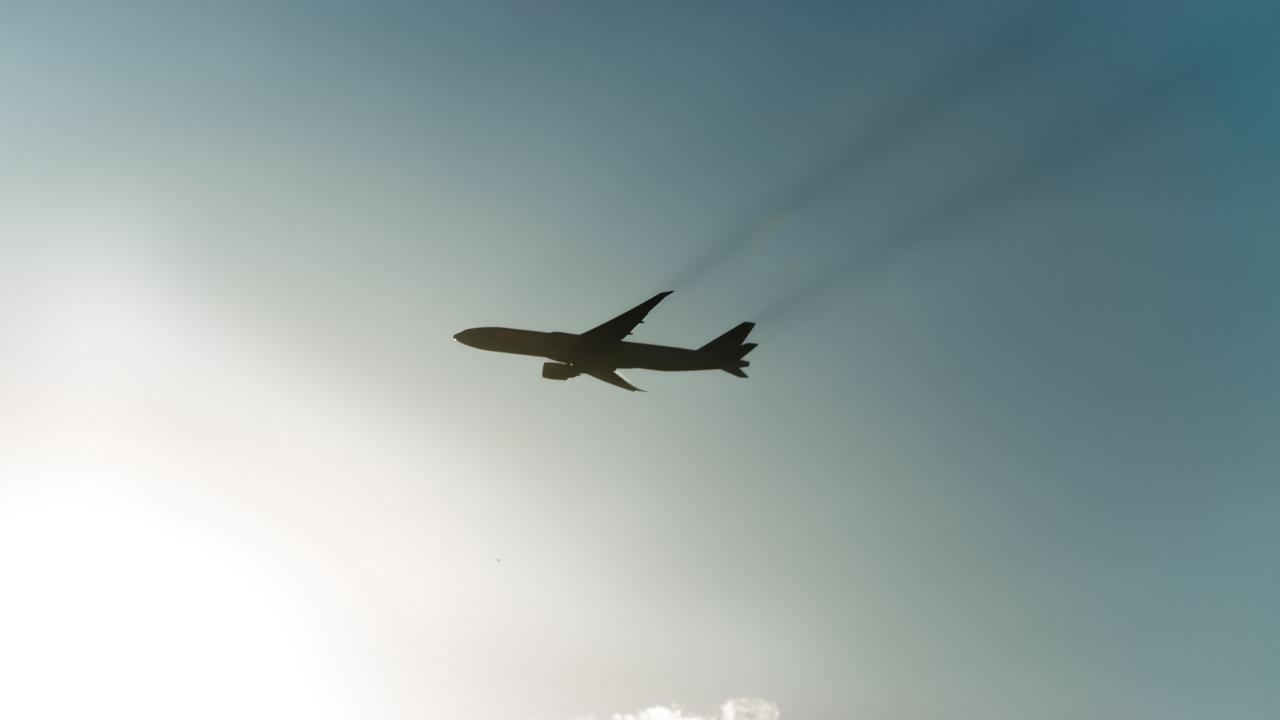Airplane: (438, 271, 778, 411)
